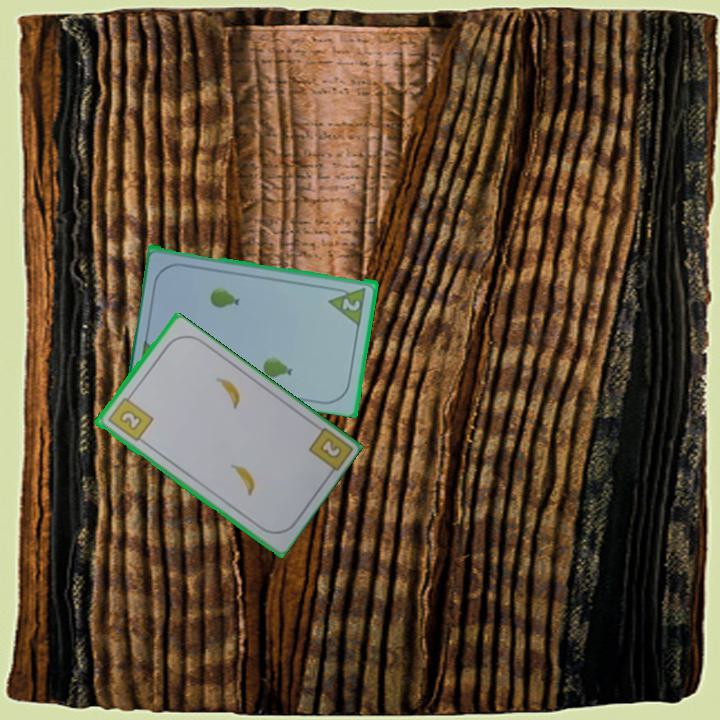2b: (104, 390, 156, 444), (315, 434, 345, 462)
2p: (339, 294, 363, 314)
